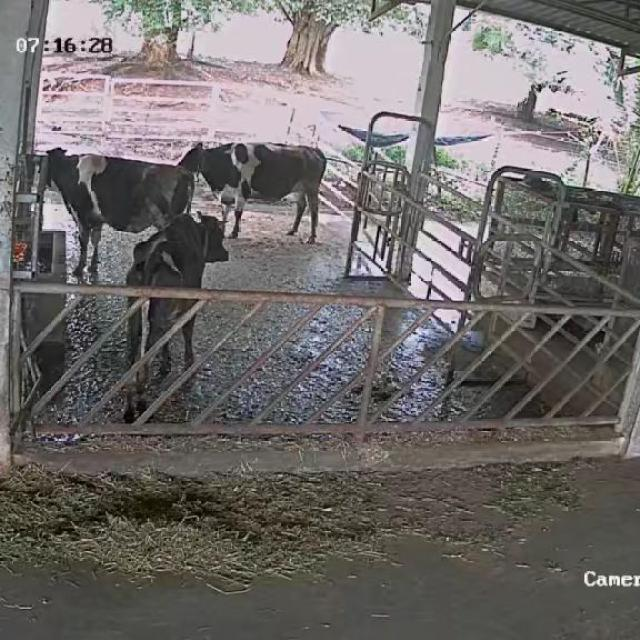standing: (119, 206, 243, 428), (39, 146, 197, 276), (168, 140, 330, 248)
